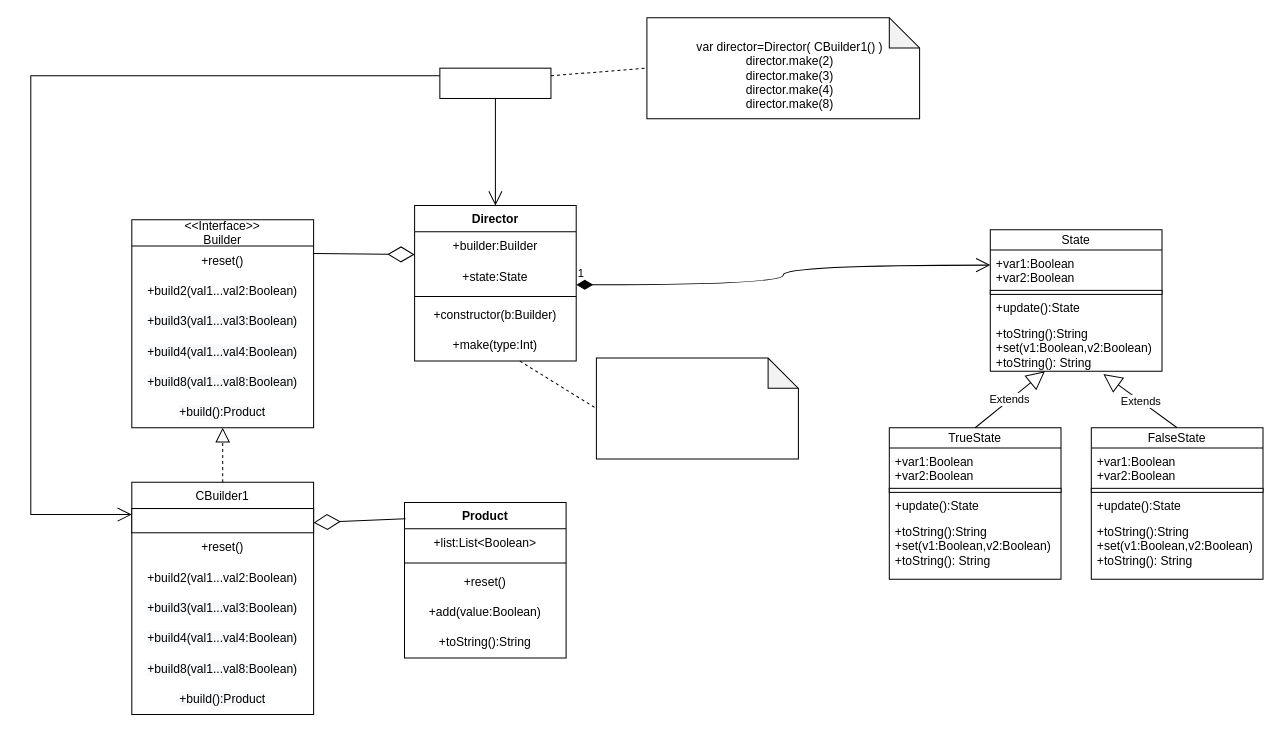
Some shapes in this 1281 by 732 pixel diagram are drawn without their labels. The shapes that lost their labels are listed below. From the top down, each one's centre as x and y in pixels, then its label:
the point at 495,82: Client
the point at 696,408: list=readList(type elements) switch(type){ case 2: case 3: case 4 cast 8:}
the point at 222,520: +product:Product
